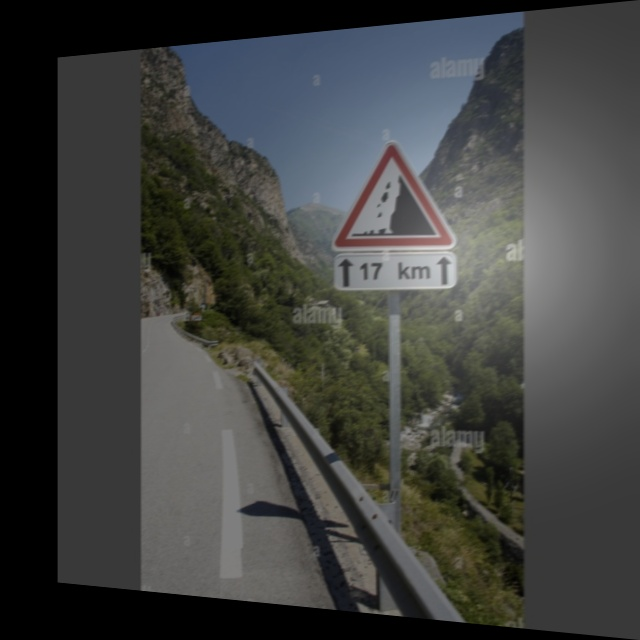Falling_Rocks: (334, 138, 451, 250)
